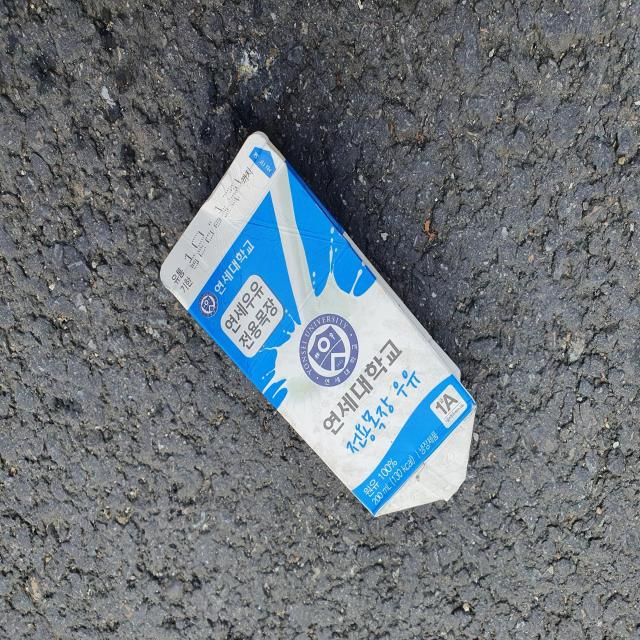paperpack: (160, 132, 476, 517)
